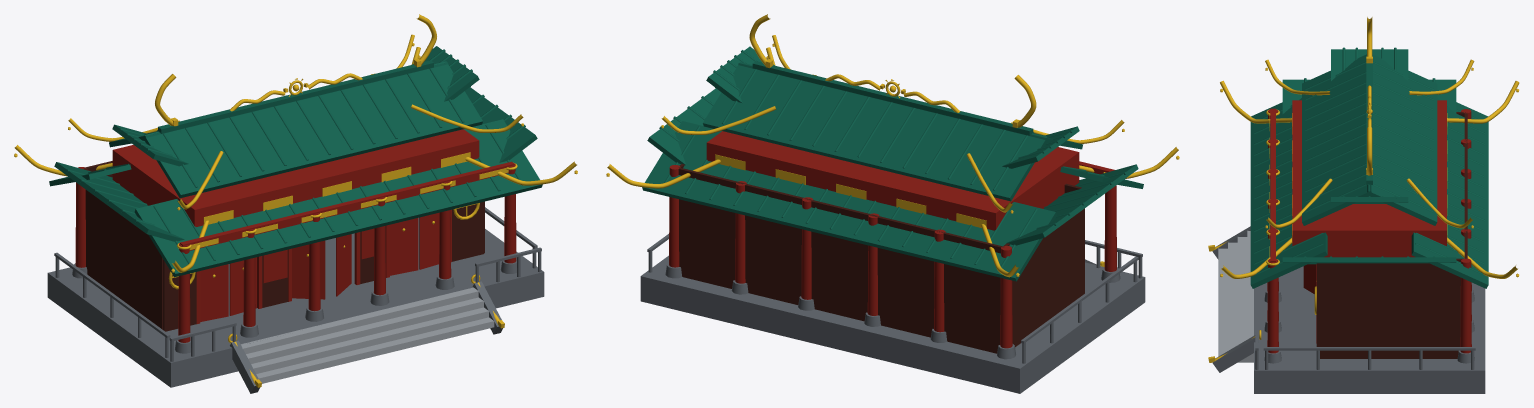
File: buddhist-temple.glb
3 views of the same model, side by side, from view 1: azimuth 30°, elevation 25°; view 2: azimuth 150°, elevation 25°; view 3: azimuth 270°, elevation 25° (orthographic). The views are drawn at different scales.
Parts seen in each view (by area): view 1: Mesh_RoofUpperFront, Mesh_BasePlatform, Mesh_RoofLowerFront, Mesh_Clerestory, Mesh_SideWallRight, Mesh_Step_3, Mesh_Step_2, Mesh_Step_1, Mesh_Step_0, Mesh_FrontLintel, Mesh_TopRidgeCap, Mesh_RoofLowerRight (+24 smaller); view 2: Mesh_BackWall, Mesh_RoofUpperBack, Mesh_BasePlatform, Mesh_RoofLowerBack, Mesh_Clerestory, Mesh_SideWallRight, Mesh_TopRidgeCap, Mesh_RoofLowerRight, Mesh_RoofLowerLeft, Mesh_ColFront_5, Mesh_ColBack_5, Mesh_RoofUpperLeft (+10 smaller); view 3: Mesh_SideWallLeft, Mesh_BasePlatform, Mesh_RoofUpperBack, Mesh_RoofUpperFront, Mesh_Clerestory, Mesh_RoofLowerBack, Mesh_RoofLowerFront, Mesh_RoofUpperRight, Mesh_RoofLowerLeft, Mesh_Step_2, Mesh_Step_0, Mesh_Step_1 (+20 smaller).
Part boxes in pixels (left/top/right/bottom): Mesh_RoofUpperFront: left=143, top=61, right=482, bottom=198; Mesh_BasePlatform: left=47, top=217, right=544, bottom=387; Mesh_RoofLowerFront: left=134, top=119, right=542, bottom=277; Mesh_Clerestory: left=112, top=129, right=479, bottom=226; Mesh_SideWallRight: left=83, top=168, right=163, bottom=329; Mesh_Step_3: left=241, top=287, right=479, bottom=353; Mesh_Step_2: left=246, top=297, right=484, bottom=363; Mesh_Step_1: left=251, top=307, right=489, bottom=373; Mesh_Step_0: left=256, top=317, right=494, bottom=383; Mesh_FrontLintel: left=180, top=161, right=514, bottom=250; Mesh_TopRidgeCap: left=158, top=60, right=433, bottom=133; Mesh_RoofLowerRight: left=54, top=162, right=184, bottom=241; Mesh_BackWall: left=678, top=167, right=1002, bottom=353; Mesh_RoofUpperBack: left=703, top=62, right=1048, bottom=201; Mesh_BasePlatform: left=640, top=255, right=1145, bottom=393; Mesh_RoofLowerBack: left=642, top=121, right=1056, bottom=281; Mesh_Clerestory: left=706, top=131, right=1079, bottom=230; Mesh_SideWallRight: left=1002, top=208, right=1084, bottom=347; Mesh_TopRidgeCap: left=752, top=61, right=1033, bottom=135; Mesh_RoofLowerRight: left=1006, top=164, right=1138, bottom=245; Mesh_RoofLowerLeft: left=647, top=88, right=721, bottom=165; Mesh_ColFront_5: left=1104, top=172, right=1116, bottom=271; Mesh_ColBack_5: left=1000, top=245, right=1012, bottom=348; Mesh_RoofUpperLeft: left=706, top=46, right=774, bottom=102; Mesh_SideWallLeft: left=1318, top=258, right=1463, bottom=358; Mesh_BasePlatform: left=1254, top=266, right=1485, bottom=393; Mesh_RoofUpperBack: left=1367, top=54, right=1437, bottom=225; Mesh_RoofUpperFront: left=1302, top=54, right=1372, bottom=225; Mesh_Clerestory: left=1292, top=100, right=1446, bottom=257; Mesh_RoofLowerBack: left=1411, top=98, right=1488, bottom=288; Mesh_RoofLowerFront: left=1250, top=98, right=1327, bottom=288; Mesh_RoofUpperRight: left=1331, top=49, right=1408, bottom=80; Mesh_RoofLowerLeft: left=1282, top=257, right=1456, bottom=264; Mesh_Step_2: left=1237, top=237, right=1247, bottom=345; Mesh_Step_0: left=1218, top=248, right=1253, bottom=362; Mesh_Step_1: left=1228, top=242, right=1253, bottom=356.
Size of the model in its own units: 13.72 by 8.42 by 9.67.
